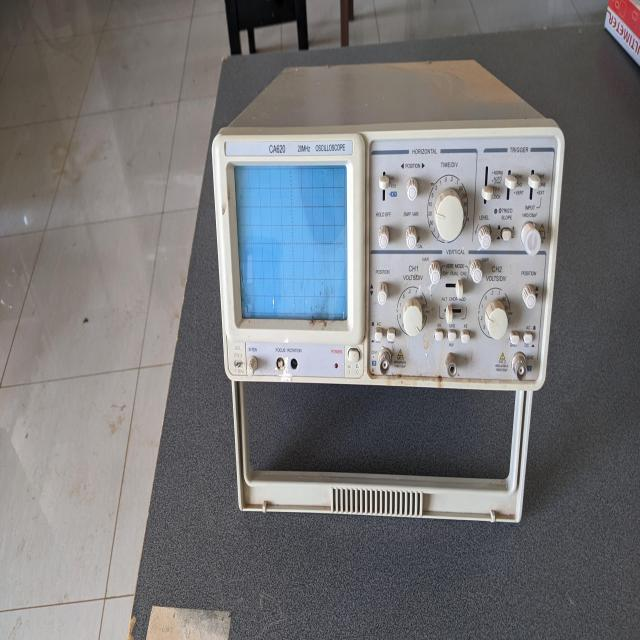Cathode Ray Oscilloscope: (202, 130, 570, 539)
